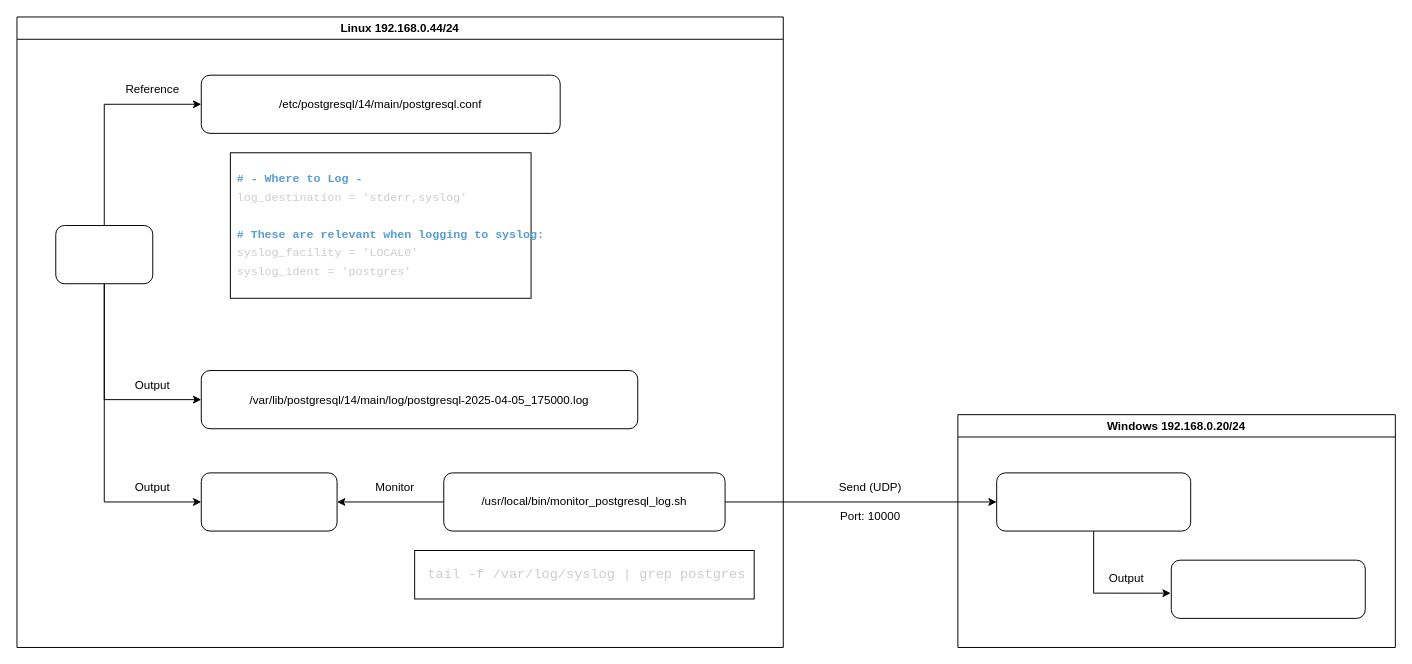
The diagram is 1412 pixels wide and 664 high, and some of its shapes have lost their labels. Here are the shapes that lost their labels. From the top down, the box of each, then its label:
(55, 225, 153, 284): PostgreSQL
(200, 472, 337, 531): /var/log/syslog
(996, 472, 1191, 531): syslog_receiver
(1170, 559, 1365, 618): 2025-04-05.log
